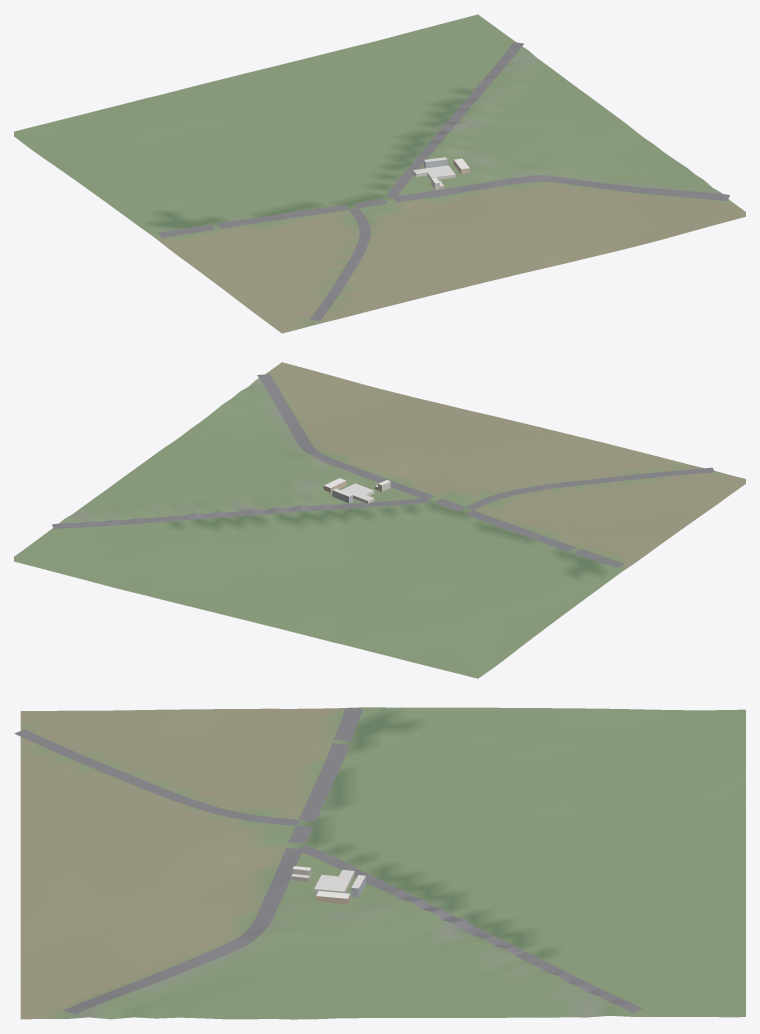
The picture shows the model from 3 angles, top to bottom: view 1: azimuth 30°, elevation 25°; view 2: azimuth 150°, elevation 25°; view 3: azimuth 270°, elevation 25°; orthographic projection. The views are drawn at different scales.
Parts seen in each view (by area): view 1: prim0, prim2, prim1; view 2: prim0, prim2, prim1; view 3: prim0, prim2, prim1.
Part boxes in pixels (x1,y1,x2,y2): prim0: (14,14,745,333); prim2: (158,42,729,320); prim1: (413,157,469,189); prim0: (14,362,745,678); prim2: (52,374,714,567); prim1: (323,478,390,503); prim0: (20,707,745,1019); prim2: (14,708,642,1014); prim1: (291,866,365,904).
Size of the model in its own units: 517 by 15.34 by 517.
